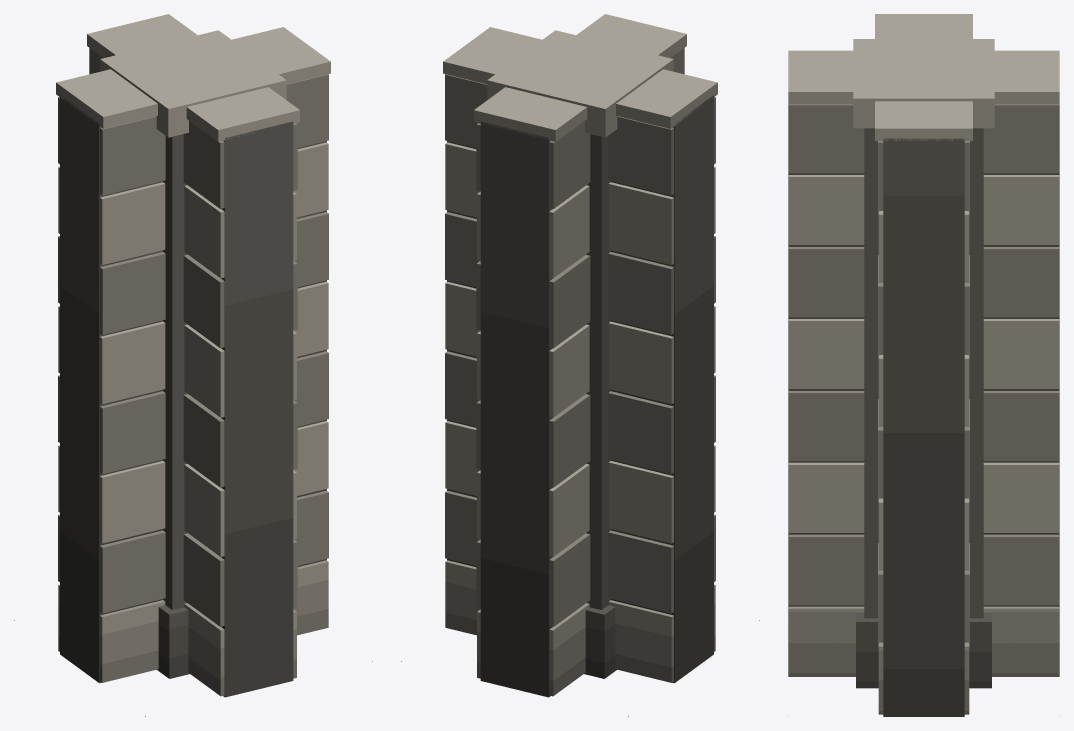
File: wall_stone_cross.glb
The picture shows the model from 3 angles, left to right: view 1: azimuth 30°, elevation 25°; view 2: azimuth 150°, elevation 25°; view 3: azimuth 270°, elevation 25°; orthographic projection. The views are drawn at different scales.
Bounding box in the file's own units: 1 × 2.4 × 1.
Materials: 1 (1 with a texture image).
